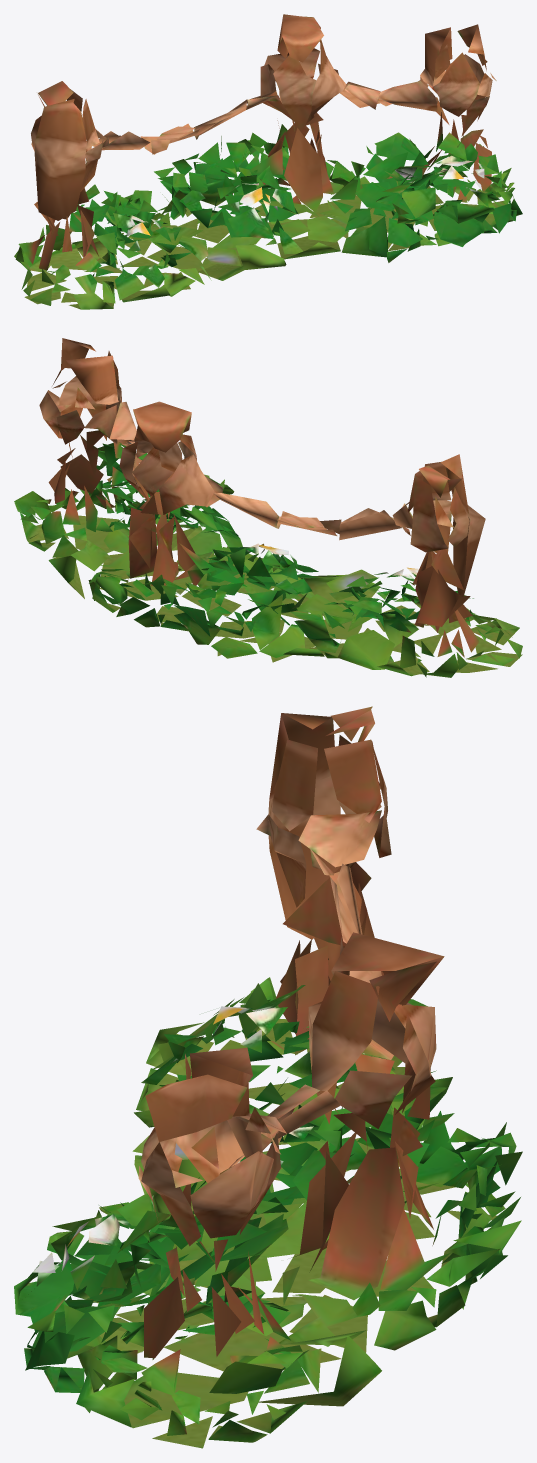
The model's file is fence.glb.
3 renders of one model, top to bottom at view 1: azimuth 30°, elevation 25°; view 2: azimuth 150°, elevation 25°; view 3: azimuth 270°, elevation 25°, orthographic. The views are drawn at different scales.
Parts seen in each view (by area): view 1: Mesh_0; view 2: Mesh_0; view 3: Mesh_0.
Part boxes in pixels (left/top/right/bottom): Mesh_0: left=14, top=14, right=522, bottom=309; Mesh_0: left=14, top=338, right=522, bottom=677; Mesh_0: left=14, top=706, right=522, bottom=1448.
Size of the model in its own units: 1.87 by 0.767 by 0.9104.
1 material, 1 textured.
